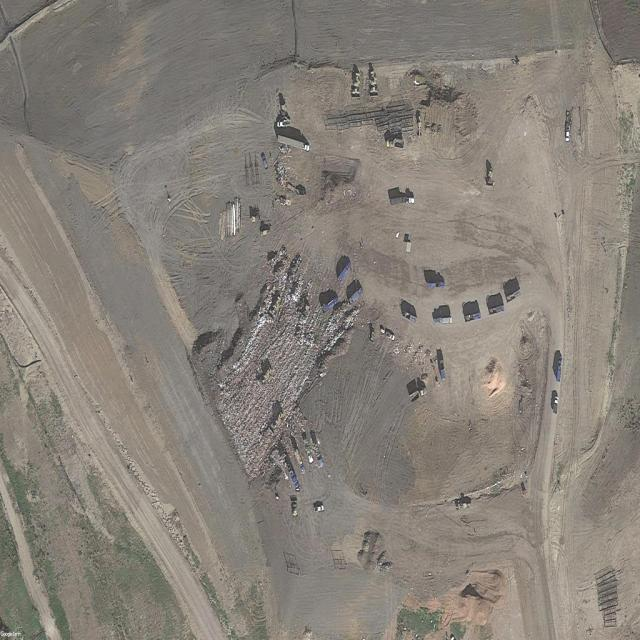dump_site: (190, 211, 379, 490)
